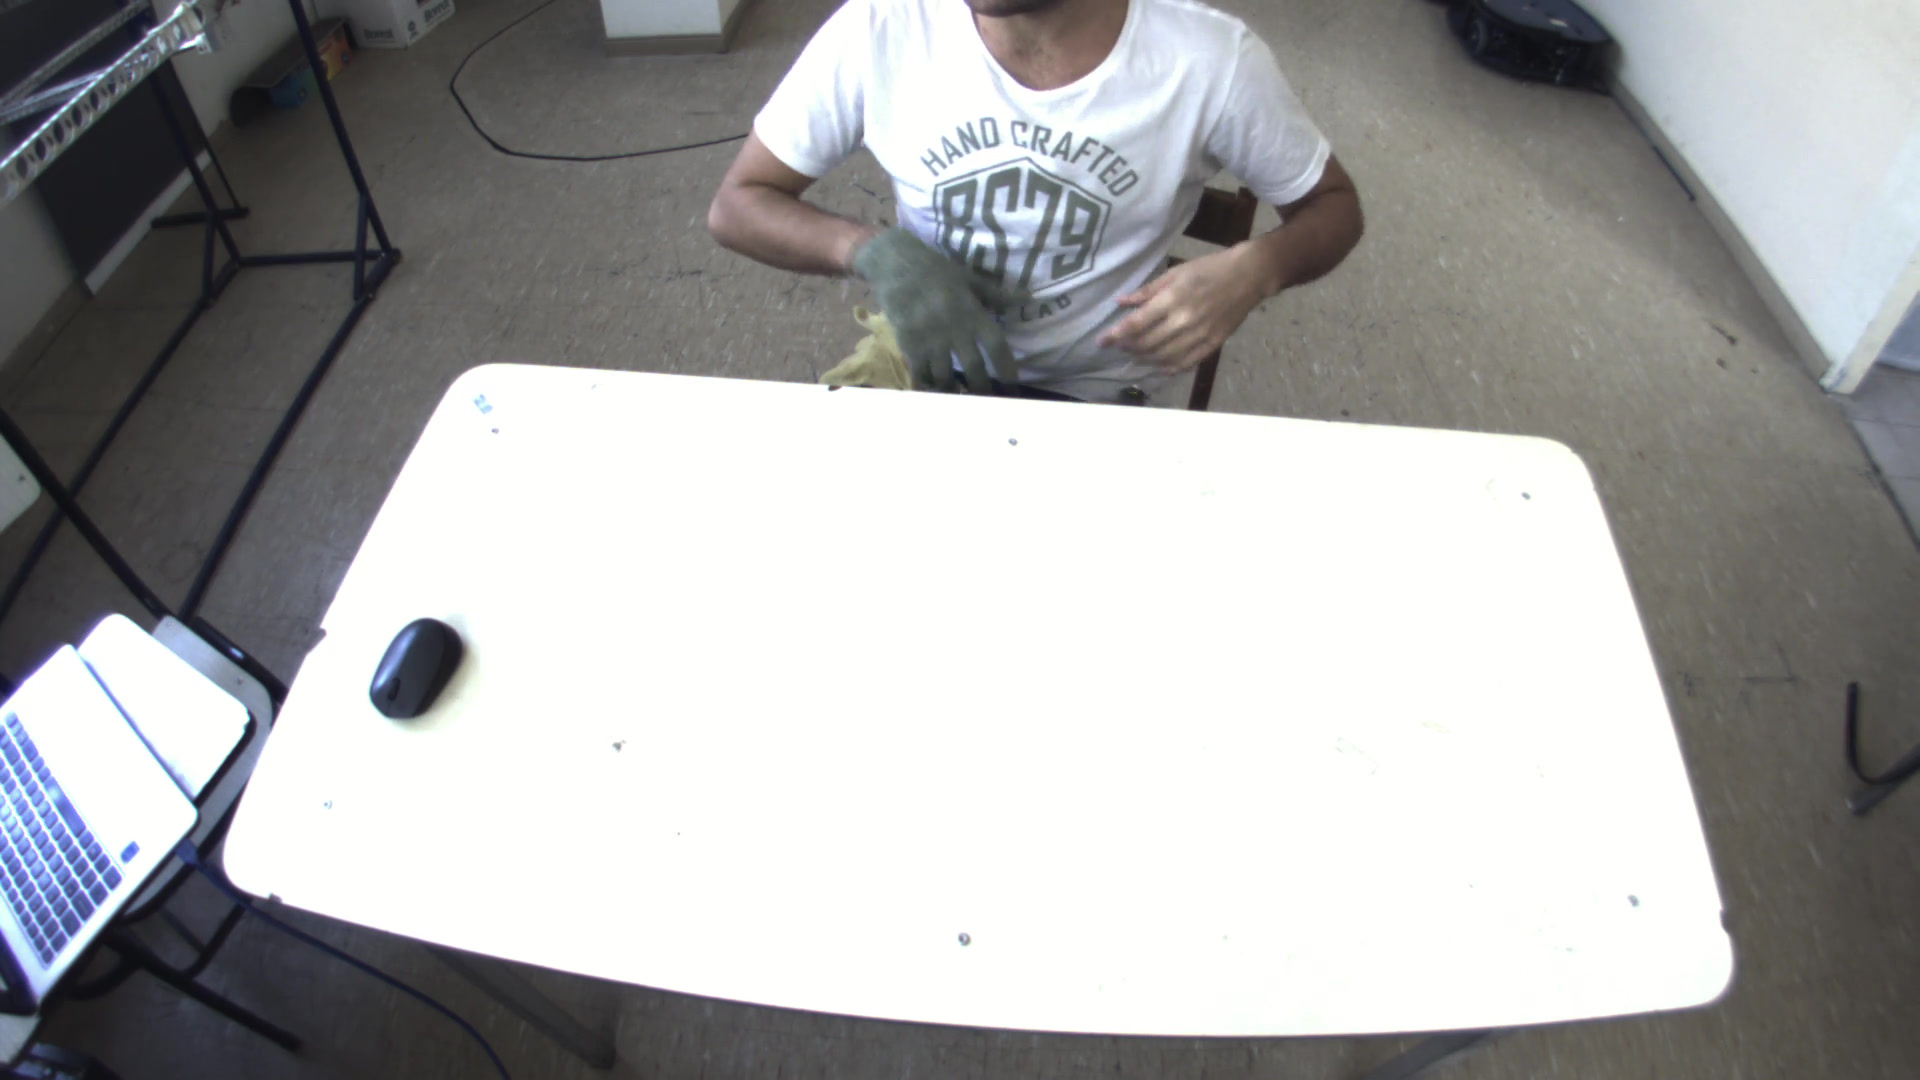hand: (843, 225, 1036, 392), (1102, 236, 1269, 368)
